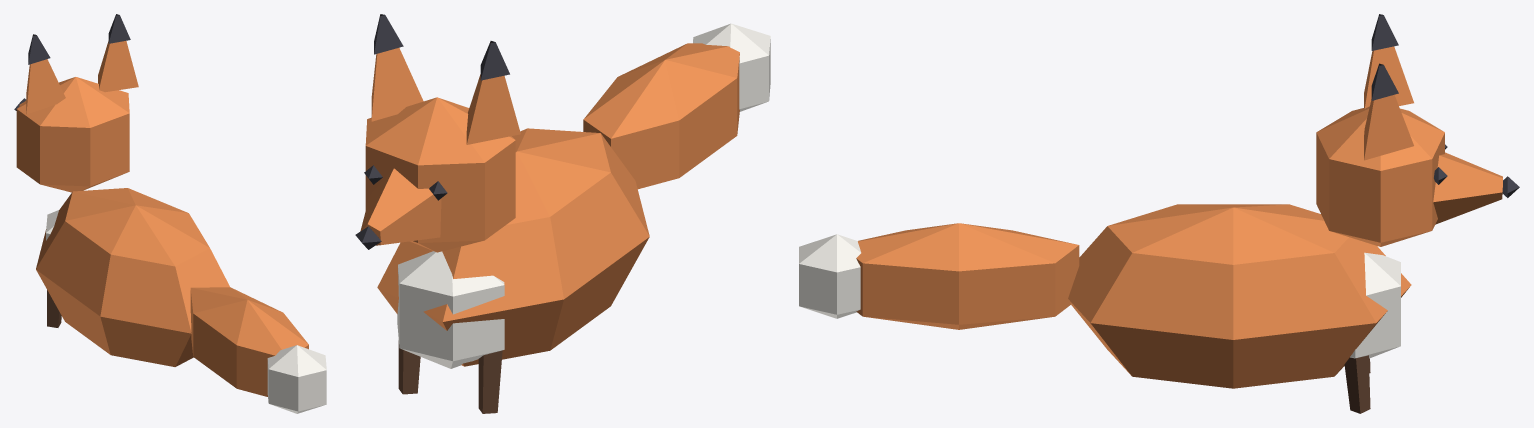
The model's file is deco_fox.obj.
3 renders of one model, left to right at view 1: azimuth 30°, elevation 25°; view 2: azimuth 150°, elevation 25°; view 3: azimuth 270°, elevation 25°, orthographic. The views are drawn at different scales.
Visible parts, largest first — view 1: deco_fox; view 2: deco_fox; view 3: deco_fox.
Boxes of the visible parts, bbox=[...] form: deco_fox: bbox=[14, 14, 326, 413]; deco_fox: bbox=[355, 14, 770, 413]; deco_fox: bbox=[799, 14, 1519, 413].
Size of the model in its own units: 0.02 by 0.0383 by 0.071.
1 material, 1 textured.
